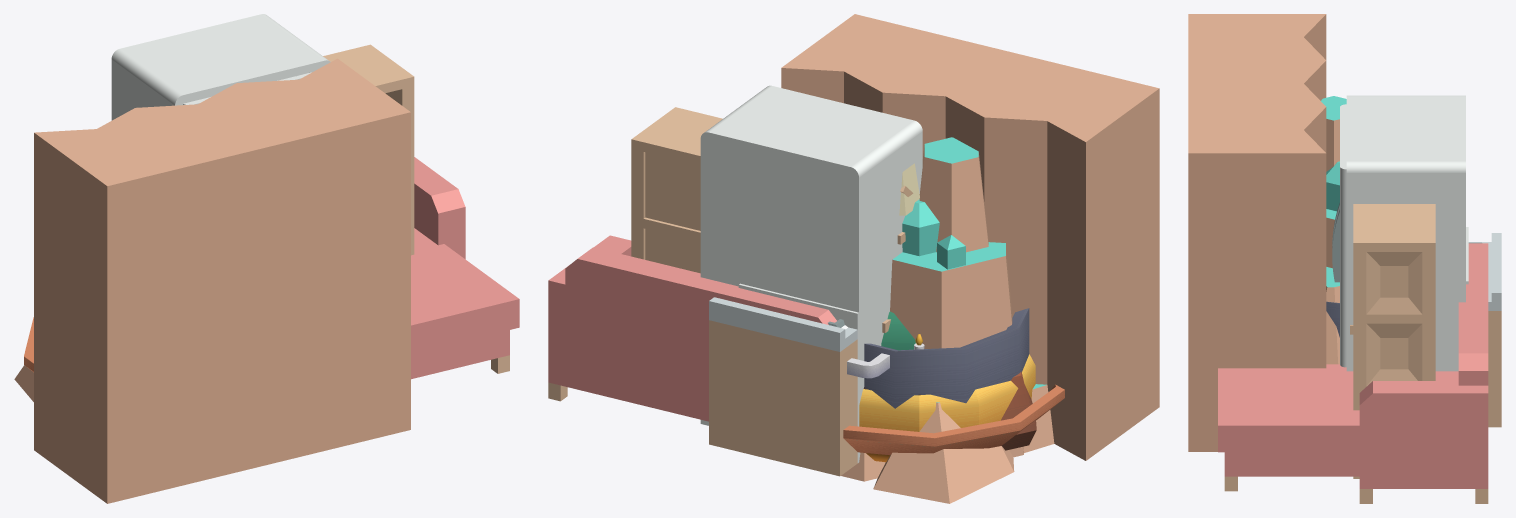
The model's file is giants.glb.
3 views of the same model, side by side, from view 1: azimuth 30°, elevation 25°; view 2: azimuth 150°, elevation 25°; view 3: azimuth 270°, elevation 25° (orthographic). The views are drawn at different scales.
Visible parts, largest first — view 1: cliff_large_rock, loungeSofaLong(Clone), Mesh kitchenFridgeLarge, bookcaseClosedWide(Clone); view 2: cliff_large_rock, Mesh kitchenFridgeLarge, loungeSofaLong(Clone), rock_tallB, Mesh kitchenStove, bookcaseClosedWide(Clone), pot-stew, tajine, wedge (×3), cactus_tall, loaf-round, Mesh washer (+2 smaller); view 3: cliff_large_rock, loungeSofaLong(Clone), Mesh kitchenFridgeLarge, bookcaseClosedWide(Clone), Mesh kitchenStove, rock_tallB, doorRight, cactus_tall.
Part boxes in pixels (box(x1,y1,x2,y2)): cliff_large_rock: box(34, 58, 410, 503); loungeSofaLong(Clone): box(411, 157, 519, 379); Mesh kitchenFridgeLarge: box(111, 14, 330, 120); bookcaseClosedWide(Clone): box(323, 44, 414, 255); cliff_large_rock: box(781, 14, 1159, 460); Mesh kitchenFridgeLarge: box(700, 85, 922, 461); loungeSofaLong(Clone): box(548, 235, 836, 421); rock_tallB: box(841, 137, 1054, 503); Mesh kitchenStove: box(709, 297, 857, 476); bookcaseClosedWide(Clone): box(631, 107, 722, 273); pot-stew: box(847, 308, 1029, 408); tajine: box(843, 384, 1064, 455); wedge (×3): box(859, 380, 1018, 462); cactus_tall: box(902, 199, 965, 269); loaf-round: box(1001, 371, 1036, 450); Mesh washer: box(738, 283, 858, 462); cliff_large_rock: box(1188, 14, 1326, 451); loungeSofaLong(Clone): box(1218, 243, 1488, 503); Mesh kitchenFridgeLarge: box(1346, 95, 1465, 371); bookcaseClosedWide(Clone): box(1353, 204, 1435, 478); Mesh kitchenStove: box(1468, 233, 1501, 427); rock_tallB: box(1321, 96, 1346, 364); doorRight: box(1332, 131, 1346, 367); cactus_tall: box(1326, 161, 1339, 211).
Bounding box in the file's own units: 1.48 × 1 × 0.95.
16 materials, 2 textured.
